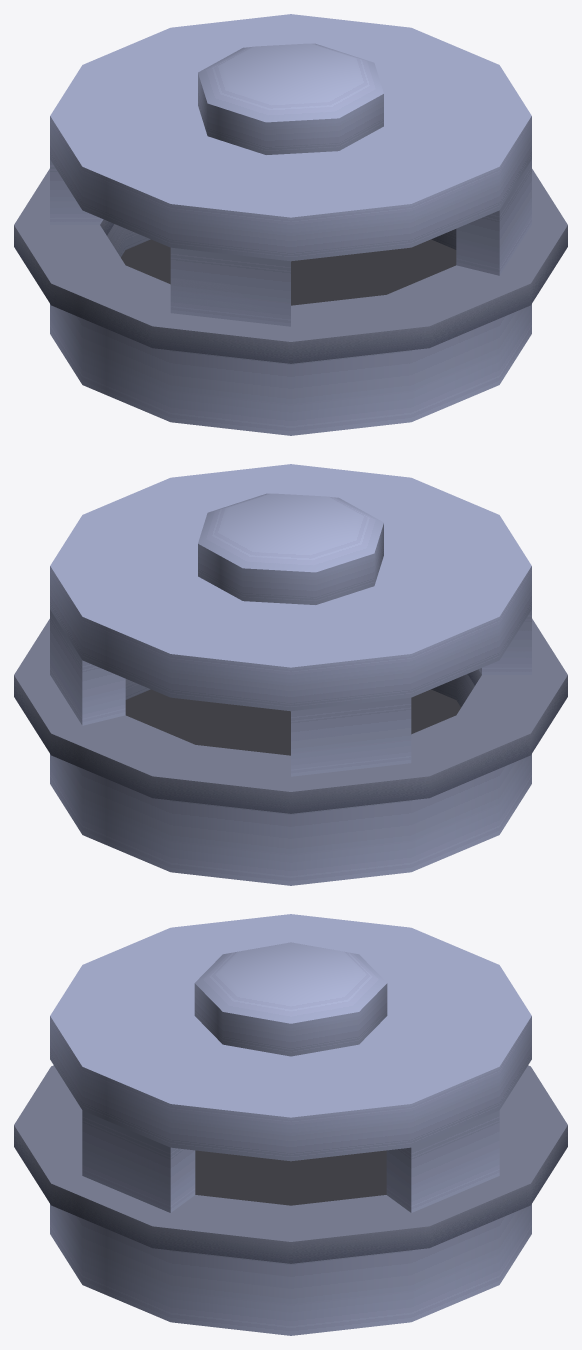
File: tower-round-middle-c.glb
The picture shows the model from 3 angles, top to bottom: view 1: azimuth 30°, elevation 25°; view 2: azimuth 150°, elevation 25°; view 3: azimuth 270°, elevation 25°; orthographic projection.
Visible parts, largest first — view 1: tower-round-middle-c; view 2: tower-round-middle-c; view 3: tower-round-middle-c.
Boxes of the visible parts, x1,y1,x2,y2 form: tower-round-middle-c: [14, 14, 567, 435]; tower-round-middle-c: [14, 464, 567, 885]; tower-round-middle-c: [14, 914, 567, 1335].
Bounding box in the file's own units: 1.15 × 0.6001 × 1.15.
1 material, 1 textured.
